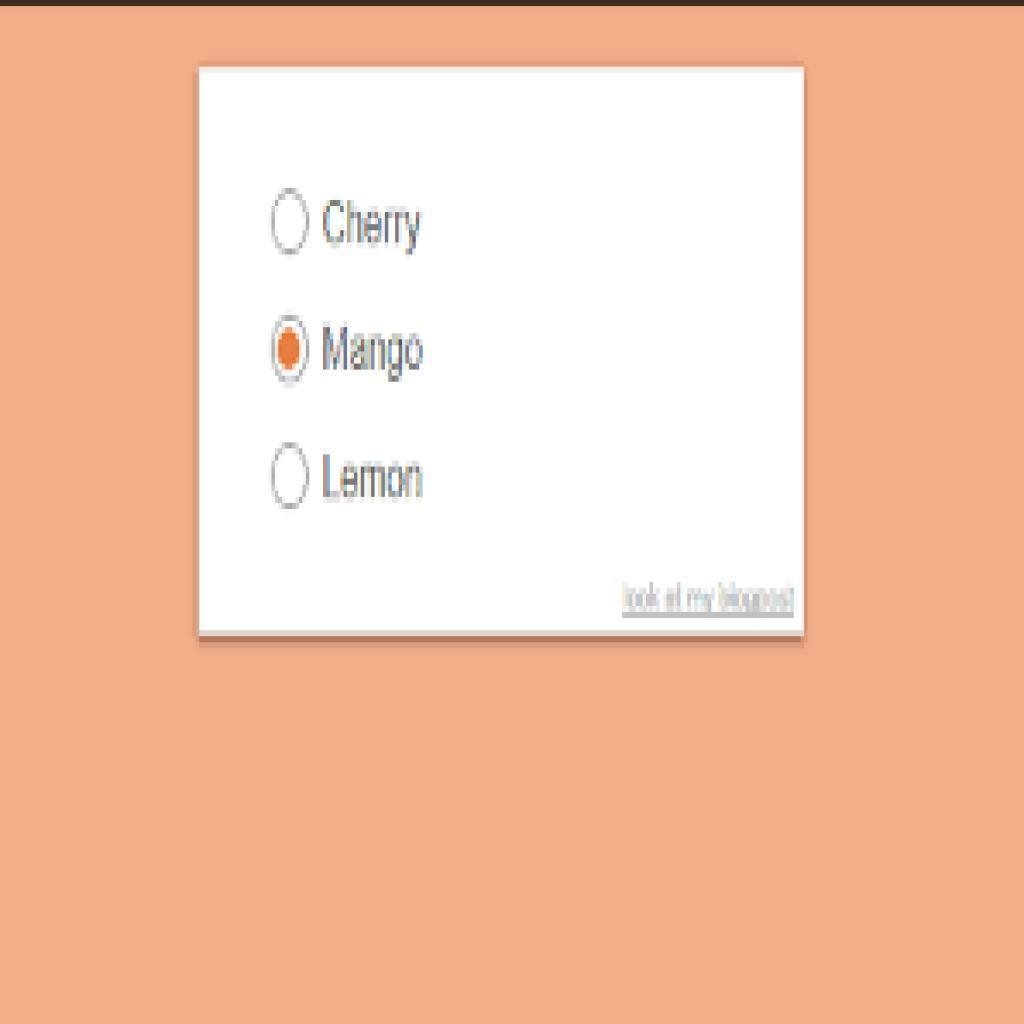label: (314, 317, 429, 383), (324, 452, 429, 509), (323, 199, 426, 254)
radio: (272, 313, 315, 389), (269, 185, 311, 261), (274, 444, 311, 508)
